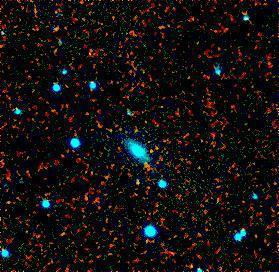star: (119, 168, 149, 198)
